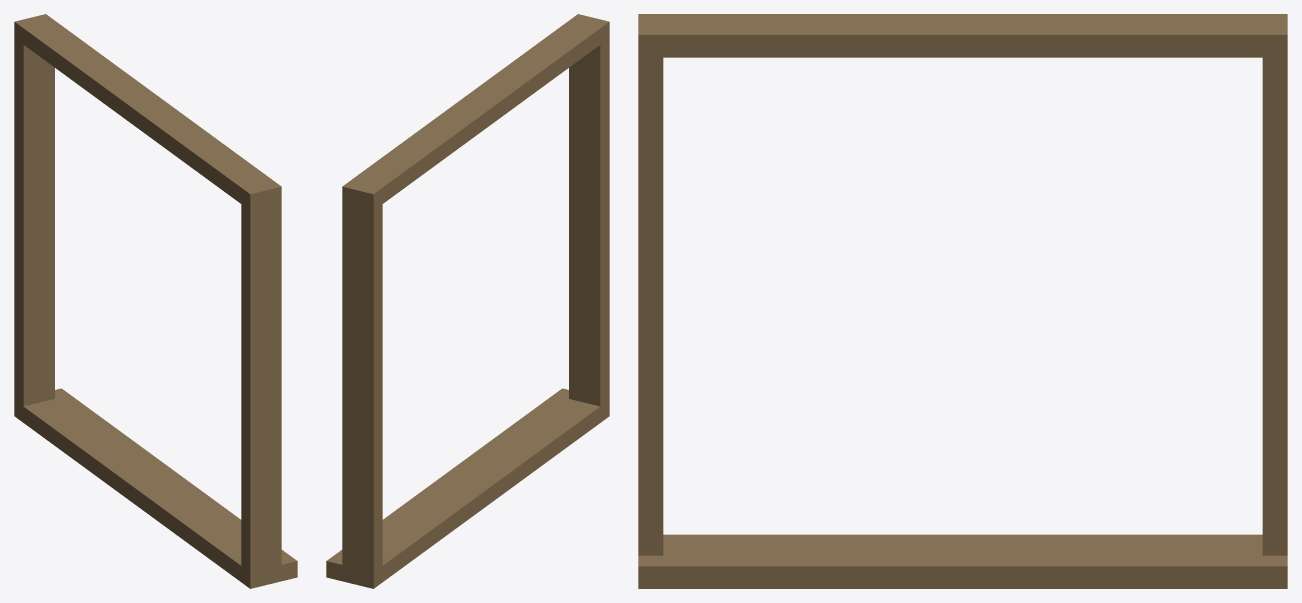
The model's file is Window00-Frame.gltf.
3 renders of one model, left to right at view 1: azimuth 30°, elevation 25°; view 2: azimuth 150°, elevation 25°; view 3: azimuth 270°, elevation 25°, orthographic. The views are drawn at different scales.
Bounding box in the file's own units: 3 × 24 × 26.
